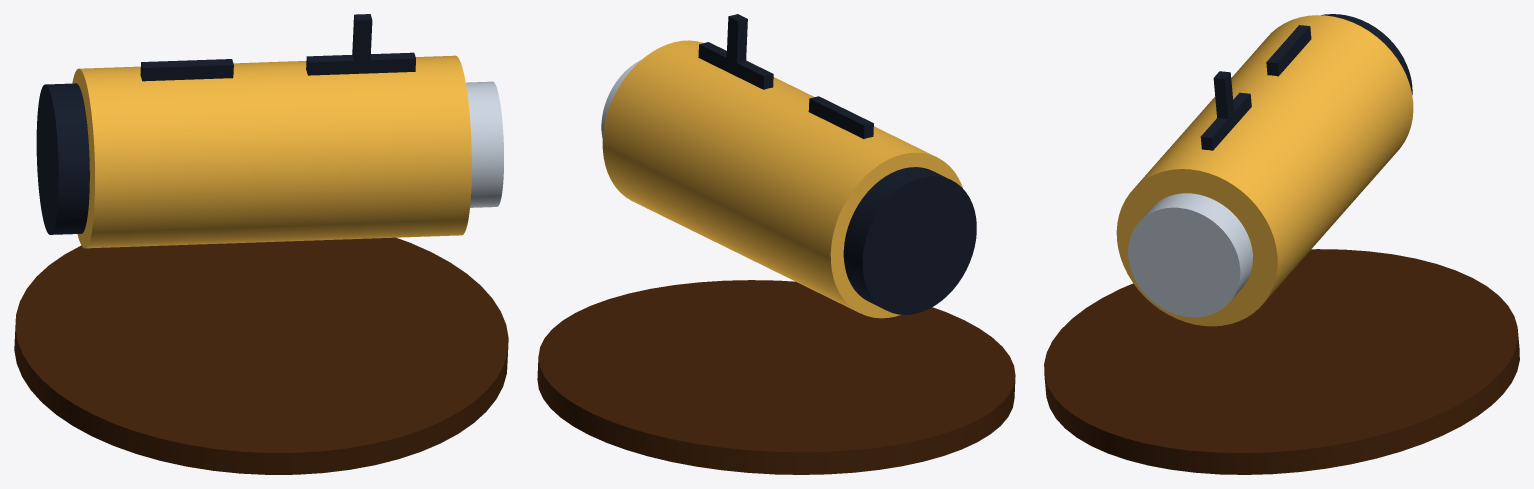
The model's file is Battery.glb.
The picture shows the model from 3 angles, left to right: view 1: azimuth 30°, elevation 25°; view 2: azimuth 150°, elevation 25°; view 3: azimuth 270°, elevation 25°; orthographic projection. The views are drawn at different scales.
Bounding box in the file's own units: 2.36 × 1.91 × 2.36.
